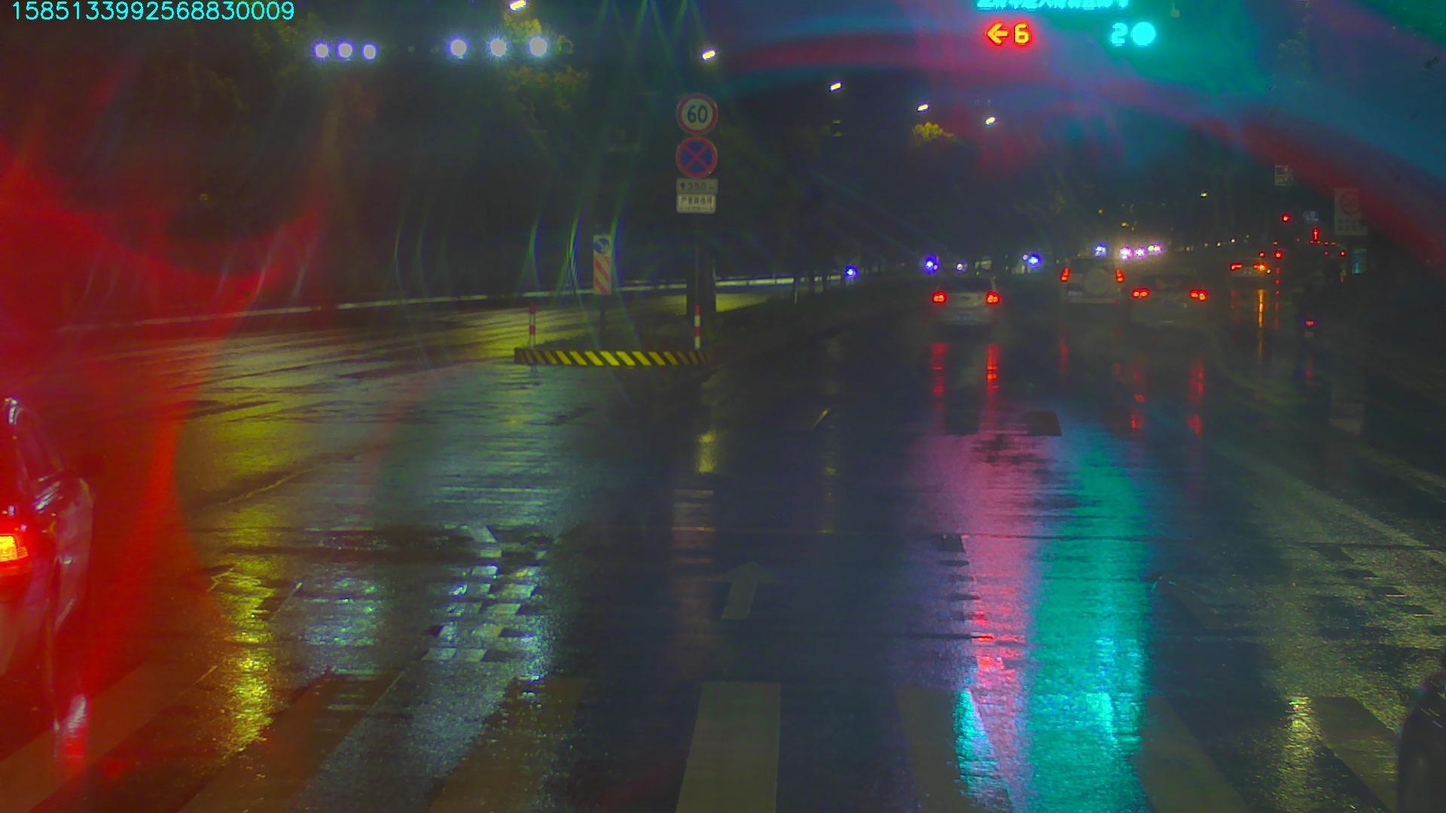green: (1100, 17, 1163, 58)
red: (978, 19, 1030, 47)
